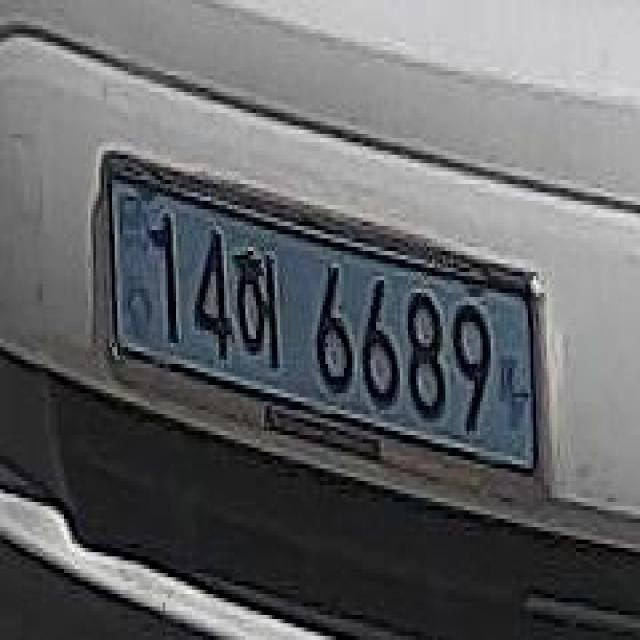EV_plate: (87, 135, 560, 513)
